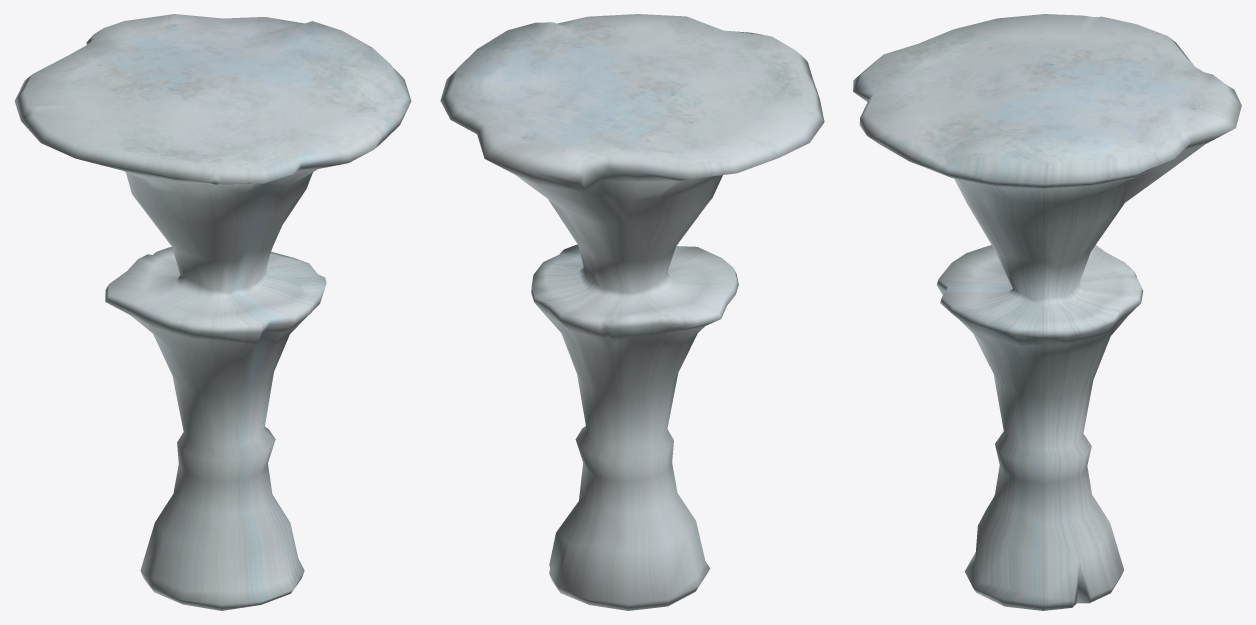
The model's file is P_RockDesert_Layered03.obj.
3 renders of one model, left to right at view 1: azimuth 30°, elevation 25°; view 2: azimuth 150°, elevation 25°; view 3: azimuth 270°, elevation 25°, orthographic.
Bounding box in the file's own units: 21.8 × 30.55 × 21.7.
